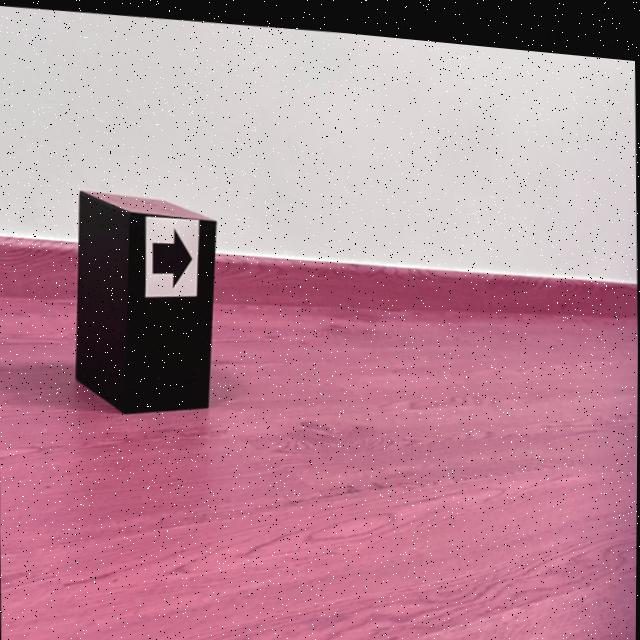RIGHT: (152, 226, 192, 282)
